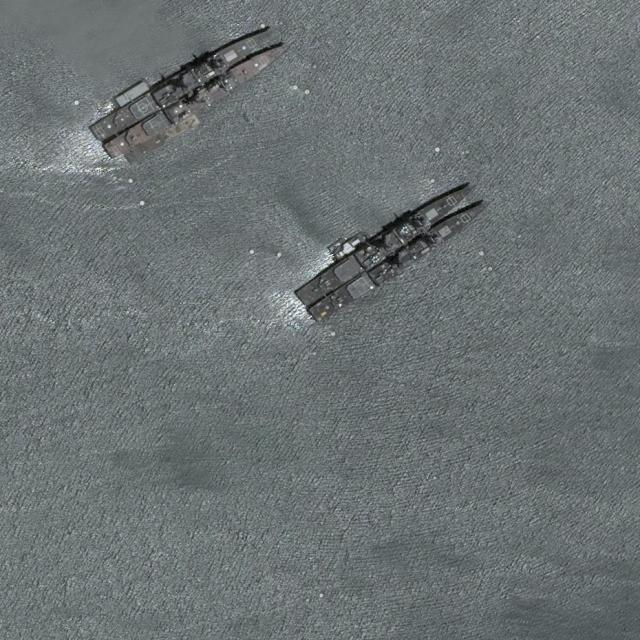Cruiser: (293, 177, 476, 308), (307, 194, 490, 325), (103, 36, 289, 162), (89, 18, 275, 143)
